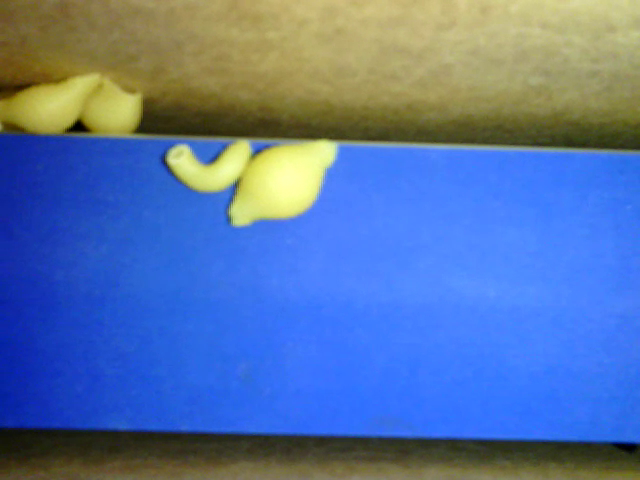elbow: (159, 138, 252, 193)
shell: (226, 136, 340, 226), (1, 65, 100, 133), (76, 76, 145, 134)
